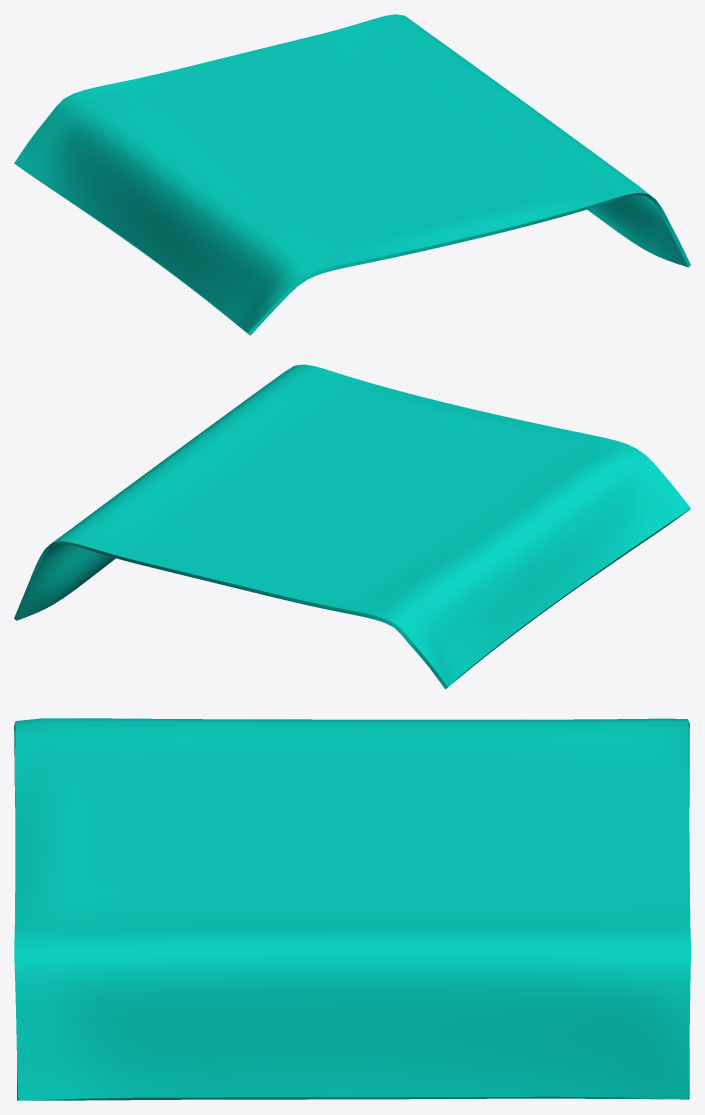
Rendered from HospitalBlanket00.fbx.
The picture shows the model from 3 angles, top to bottom: view 1: azimuth 30°, elevation 25°; view 2: azimuth 150°, elevation 25°; view 3: azimuth 270°, elevation 25°; orthographic projection. The views are drawn at different scales.
Visible parts, largest first — view 1: polySurface128; view 2: polySurface128; view 3: polySurface128.
Boxes of the visible parts, x1,y1,x2,y2 form: polySurface128: [14, 14, 690, 335]; polySurface128: [14, 364, 690, 689]; polySurface128: [14, 718, 690, 1100].
Bounding box in the file's own units: 264 × 54.53 × 251.
